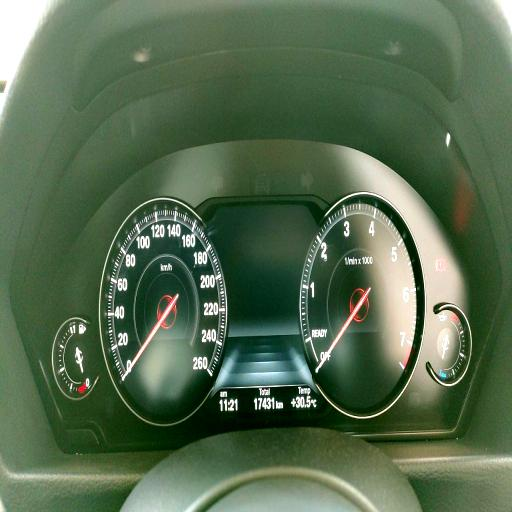brake_system_fault: (436, 258, 446, 274)
tachometer: (299, 191, 427, 417)
